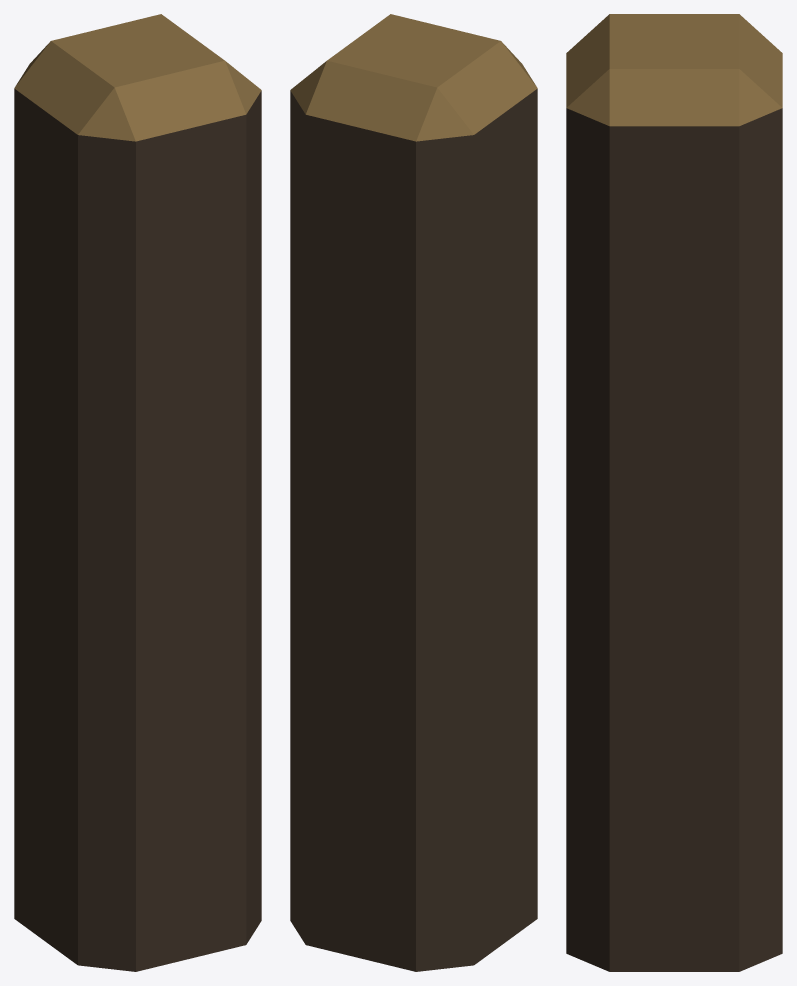
Rendered from Railling_2.fbx.
3 renders of one model, left to right at view 1: azimuth 30°, elevation 25°; view 2: azimuth 150°, elevation 25°; view 3: azimuth 270°, elevation 25°, orthographic.
Visible parts, largest first — view 1: pCube593; view 2: pCube593; view 3: pCube593.
Boxes of the visible parts, box(x1,y1,x2,y2) form: pCube593: box(14, 14, 261, 971); pCube593: box(290, 14, 537, 971); pCube593: box(566, 14, 782, 971).
Bounding box in the file's own units: 25 × 113 × 25.
